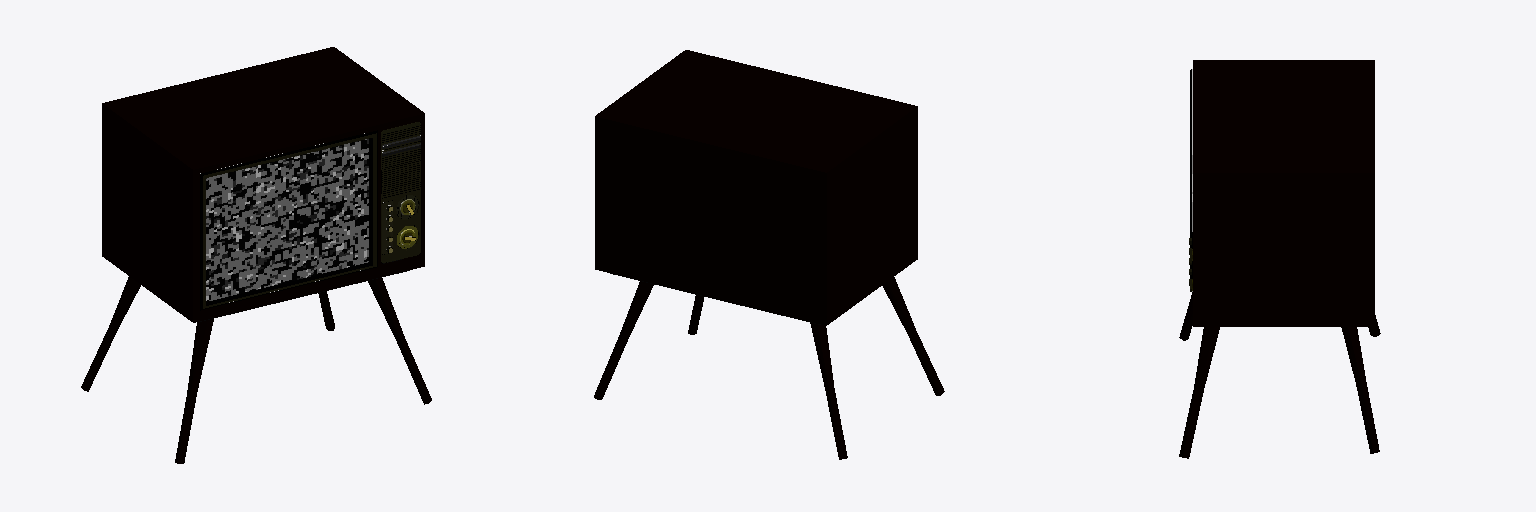
3 views of the same model, side by side, from view 1: azimuth 30°, elevation 25°; view 2: azimuth 150°, elevation 25°; view 3: azimuth 270°, elevation 25° (orthographic).
Visible parts, largest first — view 1: Cap_1_21, e_Plane.001, d_Plane.005, b_Plane.003, a_Plane.002, c_Plane.004; view 2: Cap_1_21; view 3: Cap_1_21.
Boxes of the visible parts, x1,y1,x2,y2 form: Cap_1_21: [81, 47, 431, 463]; e_Plane.001: [206, 139, 368, 300]; d_Plane.005: [206, 140, 368, 301]; b_Plane.003: [206, 139, 368, 296]; a_Plane.002: [206, 147, 366, 300]; c_Plane.004: [206, 141, 368, 292]; Cap_1_21: [594, 50, 944, 459]; Cap_1_21: [1179, 60, 1380, 458].
Bounding box in the file's own units: 84.88 × 91.29 × 58.04.